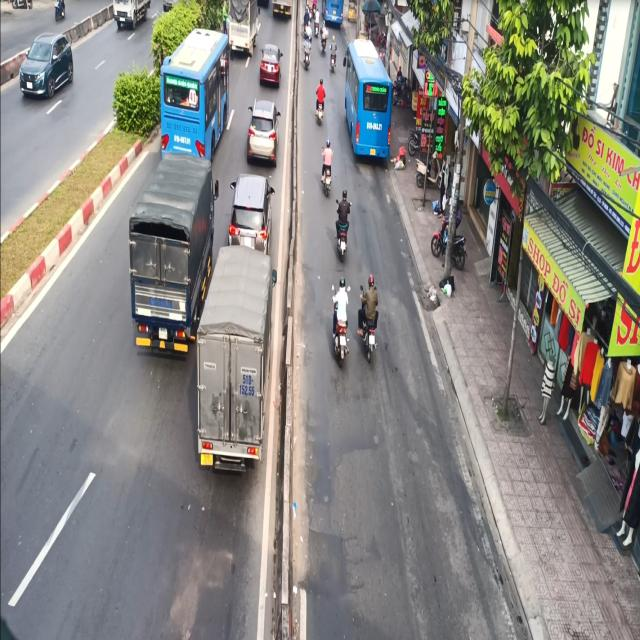bus: (154, 24, 235, 163), (344, 34, 396, 171)
car: (227, 166, 272, 254), (248, 94, 280, 165), (258, 44, 284, 86)
motor: (354, 262, 385, 356), (327, 272, 353, 362), (334, 185, 355, 258), (317, 132, 337, 194), (312, 75, 328, 134)
truck: (193, 246, 279, 471), (128, 152, 218, 359)
